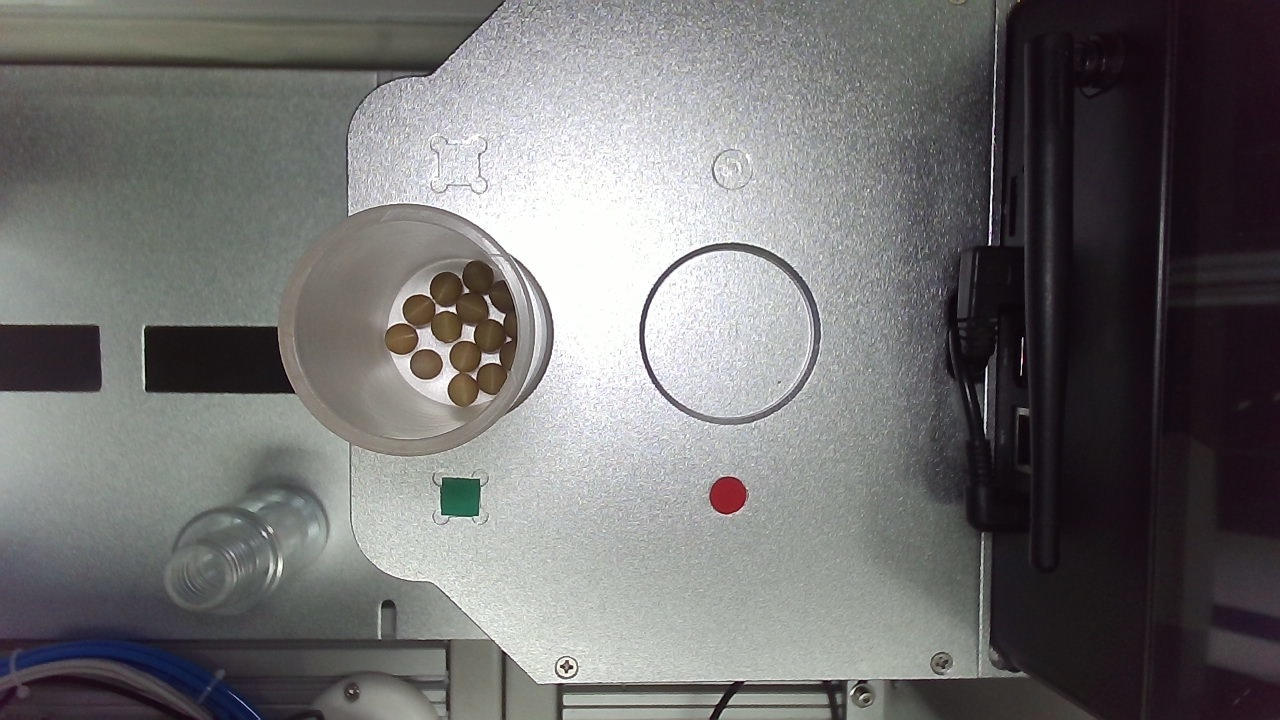XLabel: (658, 298, 692, 331)
YLabel: (439, 304, 474, 339)
none: (370, 372, 539, 535)
transparenexcept: (599, 367, 820, 576)
